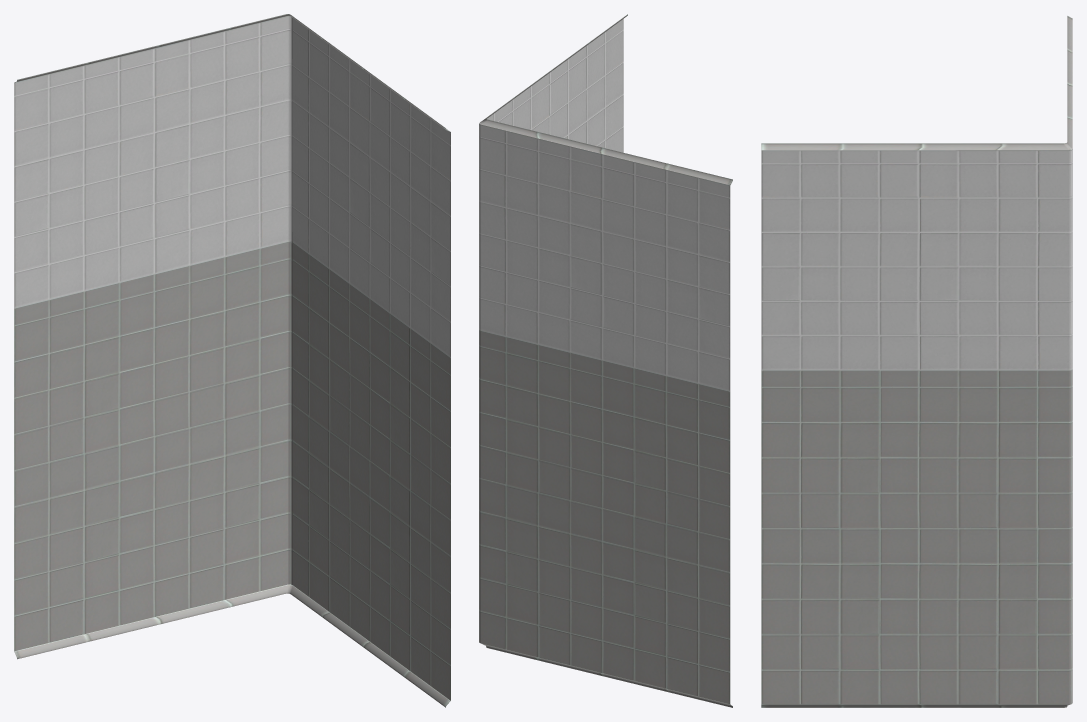
The model's file is bathroom_concave.dae.
The picture shows the model from 3 angles, left to right: view 1: azimuth 30°, elevation 25°; view 2: azimuth 150°, elevation 25°; view 3: azimuth 270°, elevation 25°; orthographic projection. The views are drawn at different scales.
Visible parts, largest first — view 1: bathroom_concave; view 2: bathroom_concave; view 3: bathroom_concave.
Boxes of the visible parts, x1,y1,x2,y2 form: bathroom_concave: [14, 14, 450, 707]; bathroom_concave: [479, 14, 732, 707]; bathroom_concave: [761, 16, 1072, 707].
Bounding box in the file's own units: 200 × 400 × 200.
